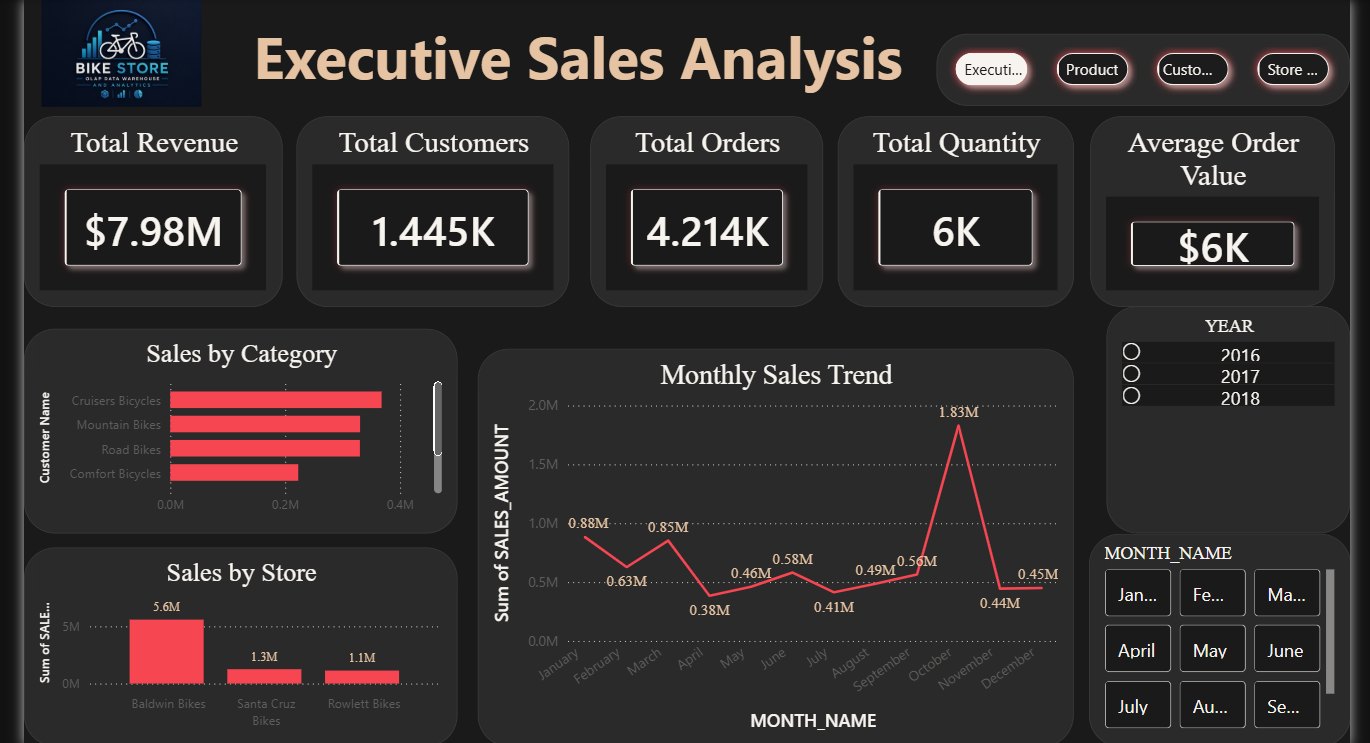

Layout of this report page (visuals, bound fields, positions):
{"tool":"powerbi","page":{"name":"Executive Sales ","canvas":[1280,720],"ordinal":0},"visuals":[{"type":"textbox","box":[203.8,0,651.4,98.4],"z":0},{"type":"image","box":[0,0,188,102.9],"z":1000},{"type":"pageNavigator","box":[865.2,0,414.8,98.4],"z":2000},{"type":"cardVisual","title":"Total Revenue","fields":{"Data":["Sum(FACT_SALES.SALES_AMOUNT)"]},"box":[0,112.5,249.7,183.9],"z":3000},{"type":"cardVisual","title":"Total Customers","fields":{"Data":["CountNonNull(DIM_CUSTOMERS.CUSTOMER_ID)"]},"box":[263.5,112.5,263.5,183.9],"z":4000},{"type":"cardVisual","title":"Total Orders","fields":{"Data":["CountNonNull(FACT_SALES.ORDER_ID)"]},"box":[546.1,112.5,225,183.9],"z":5000},{"type":"cardVisual","title":"Total Quantity","fields":{"Data":["Sum(FACT_SALES.QUANTITY)"]},"box":[784.9,112.5,227.8,183.9],"z":6000},{"type":"cardVisual","title":"Average Order Value","fields":{"Data":["FACT_SALES.Average Order Value"]},"box":[1029.2,112.5,236,183.9],"z":7000},{"type":"clusteredBarChart","title":"Sales by Category","fields":{"Y":["Sum(FACT_SALES.SALES_AMOUNT)"],"Category":["DIM_PRODUCTS.CATEGORY_NAME"]},"box":[0,316.4,419.1,198.1],"z":8000},{"type":"clusteredColumnChart","title":"Sales by Store","fields":{"Category":["DIM_STORES.STORE_NAME"],"Y":["Sum(FACT_SALES.SALES_AMOUNT)"]},"box":[0,527.9,418.5,192.1],"z":9000},{"type":"lineChart","title":"Monthly Sales Trend","fields":{"Y":["Sum(FACT_SALES.SALES_AMOUNT)"],"Category":["DIM_DATE.Month_Name"]},"box":[447.7,335.8,575,384.2],"z":11000},{"type":"listSlicer","fields":{"Values":["DIM_DATE.YEAR"]},"box":[1044.7,295.6,235.3,219.6],"z":12000},{"type":"advancedSlicerVisual","fields":{"Values":["DIM_DATE.Month_Name"]},"box":[1029.1,477.5,250.9,242.3],"z":13000}]}

Visuals, with their boxes on the page's 1280x720 design canvas (x1, y1, x2, y2). These are canvas units, not pixel positions in the 1370x743 screenshot, which may show the page scaled, cropped or inside an application window:
textbox: (204, 0, 855, 98)
image: (0, 0, 188, 103)
pageNavigator: (865, 0, 1280, 98)
"Total Revenue" cardVisual: (0, 112, 250, 296)
"Total Customers" cardVisual: (264, 112, 527, 296)
"Total Orders" cardVisual: (546, 112, 771, 296)
"Total Quantity" cardVisual: (785, 112, 1013, 296)
"Average Order Value" cardVisual: (1029, 112, 1265, 296)
"Sales by Category" clusteredBarChart: (0, 316, 419, 514)
"Sales by Store" clusteredColumnChart: (0, 528, 418, 720)
"Monthly Sales Trend" lineChart: (448, 336, 1023, 720)
listSlicer - DIM_DATE.YEAR: (1045, 296, 1280, 515)
advancedSlicerVisual - DIM_DATE.Month_Name: (1029, 478, 1280, 720)
